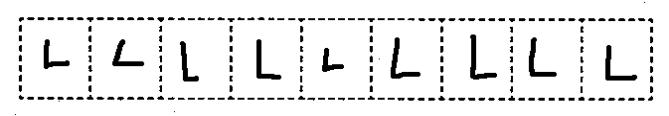L: (456, 31, 504, 88), (379, 33, 427, 86), (245, 34, 285, 88), (597, 41, 642, 87), (520, 33, 564, 80), (171, 38, 208, 88), (35, 34, 74, 76), (109, 34, 146, 75), (314, 40, 348, 80)
